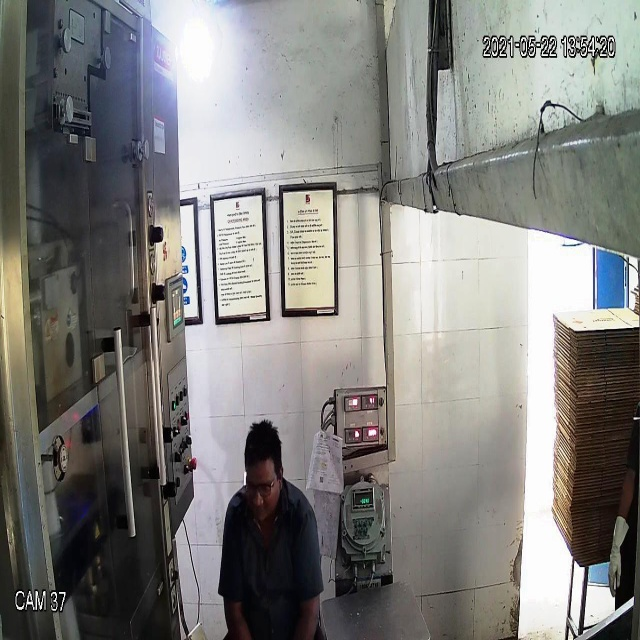Gafas: (242, 469, 283, 504)
